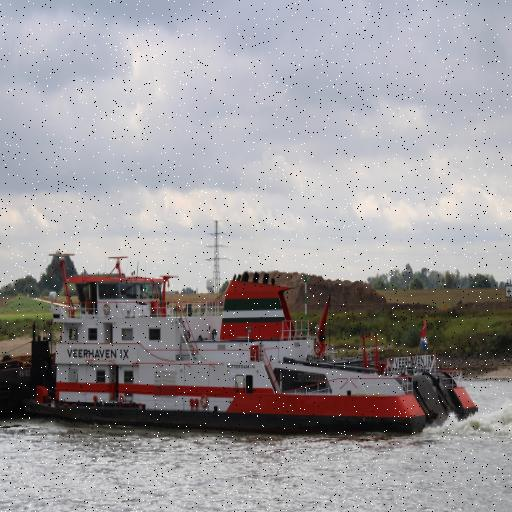tugboat: (28, 253, 483, 446)
